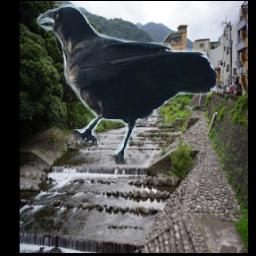Crow: (37, 5, 219, 165)
